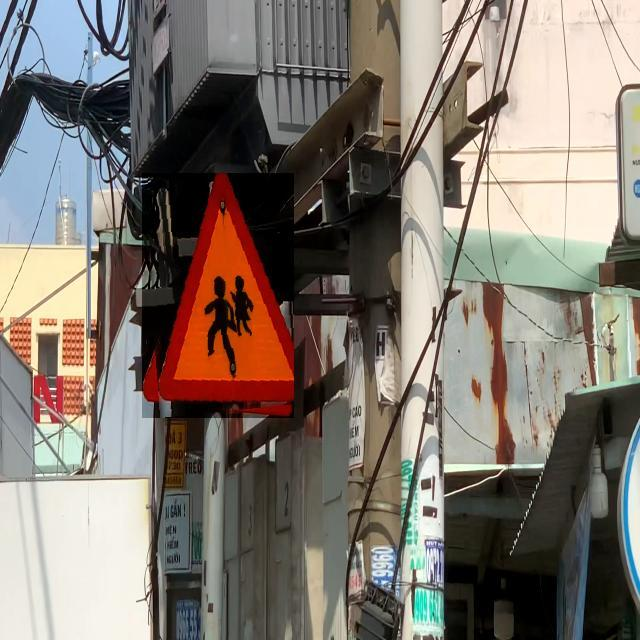W-225: (142, 173, 294, 418)
